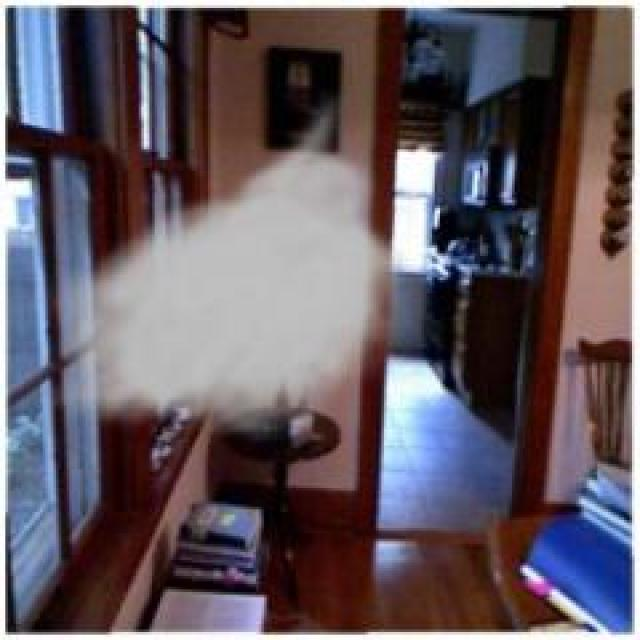Smoke: (54, 89, 404, 436)
